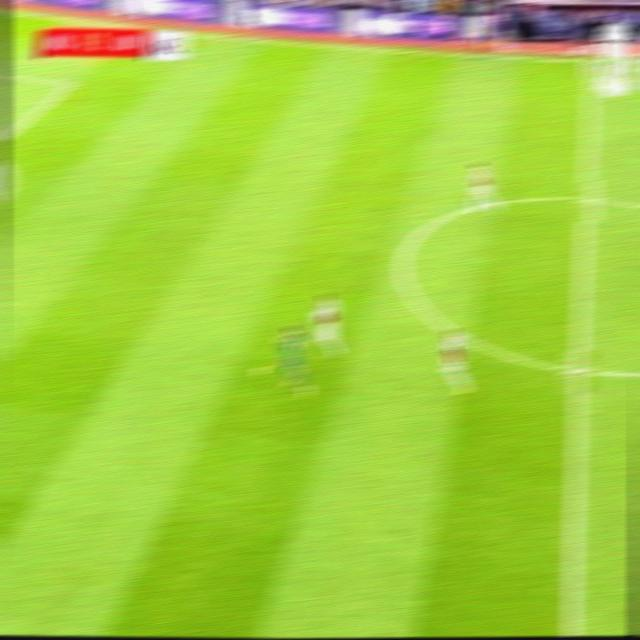bigarea_top_inner: (56, 65, 85, 103)
halfcircle_bottom: (560, 350, 596, 392)
halfcircle_top: (571, 181, 604, 220)
midline_top_intersection: (581, 45, 606, 76)
